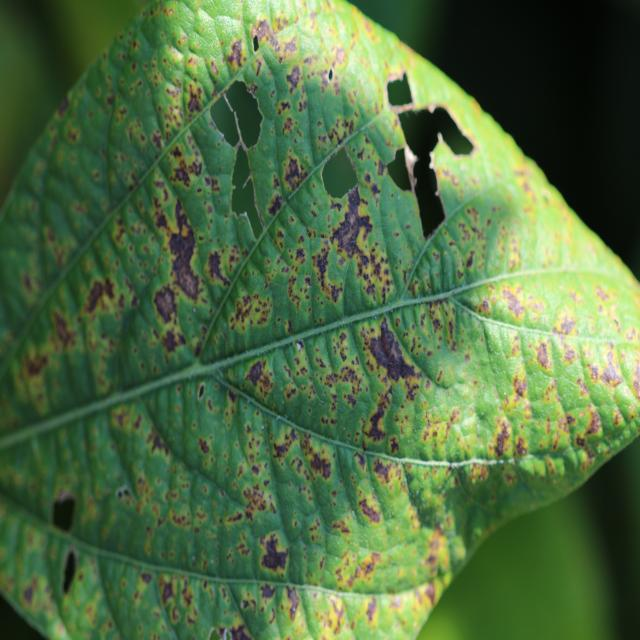Bacterial_Blight: (146, 196, 211, 352), (358, 316, 426, 385), (330, 184, 371, 259), (50, 491, 78, 594), (258, 17, 306, 72), (583, 341, 630, 395), (230, 289, 273, 340), (334, 543, 376, 590), (423, 528, 450, 579), (242, 482, 275, 520), (169, 151, 201, 189), (260, 533, 290, 573), (83, 276, 111, 314), (52, 310, 76, 350), (553, 304, 579, 336), (283, 156, 305, 190), (308, 449, 332, 480), (493, 419, 512, 457), (502, 289, 525, 319), (272, 431, 295, 459), (25, 350, 48, 378), (245, 359, 266, 387), (359, 497, 381, 523), (226, 39, 245, 69), (186, 84, 204, 115), (512, 368, 528, 399), (536, 341, 552, 369), (585, 409, 602, 435), (229, 622, 253, 640), (287, 589, 300, 619), (161, 578, 174, 606), (267, 194, 283, 216), (23, 581, 35, 603), (165, 82, 181, 98), (151, 130, 163, 151), (198, 437, 210, 455), (465, 251, 475, 269), (246, 83, 258, 96)
Soybean: (0, 0, 640, 640)
